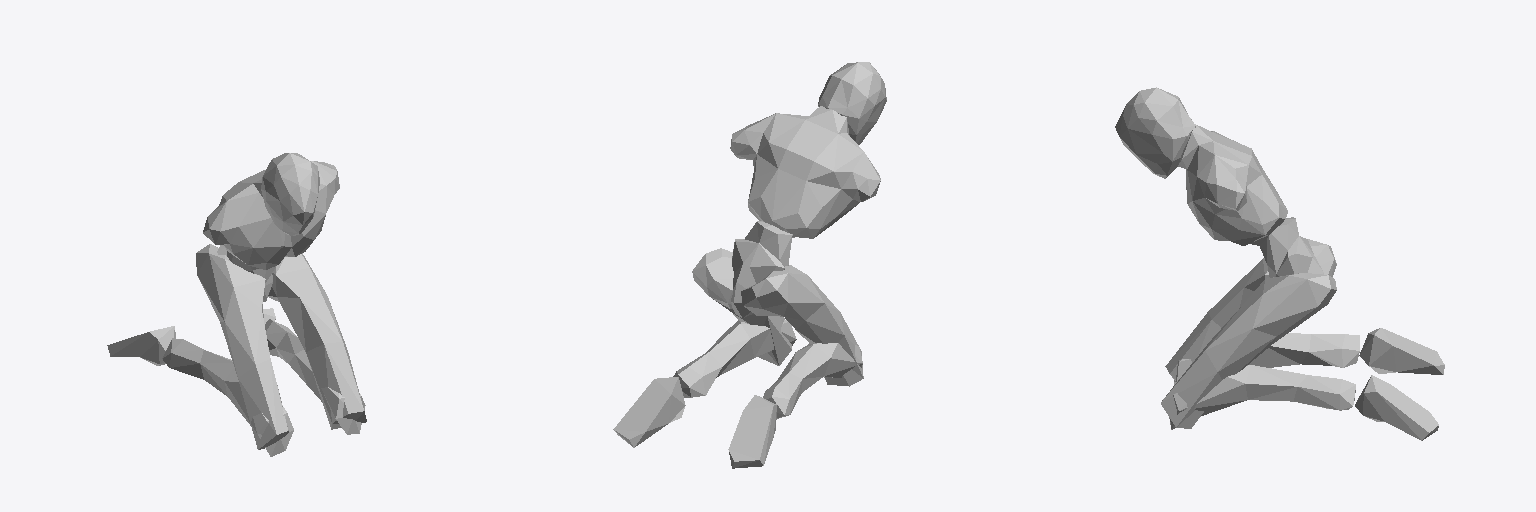
Rendered from filth48.obj.
3 views of the same model, side by side, from view 1: azimuth 30°, elevation 25°; view 2: azimuth 150°, elevation 25°; view 3: azimuth 270°, elevation 25° (orthographic).
Visible parts, largest first — view 1: Melee_Husk; view 2: Melee_Husk; view 3: Melee_Husk.
Boxes of the visible parts, box(x1,y1,x2,y2) form: Melee_Husk: box(107, 153, 366, 456); Melee_Husk: box(613, 62, 886, 468); Melee_Husk: box(1115, 87, 1444, 440).
Bounding box in the file's own units: 23.54 × 43.66 × 42.16.